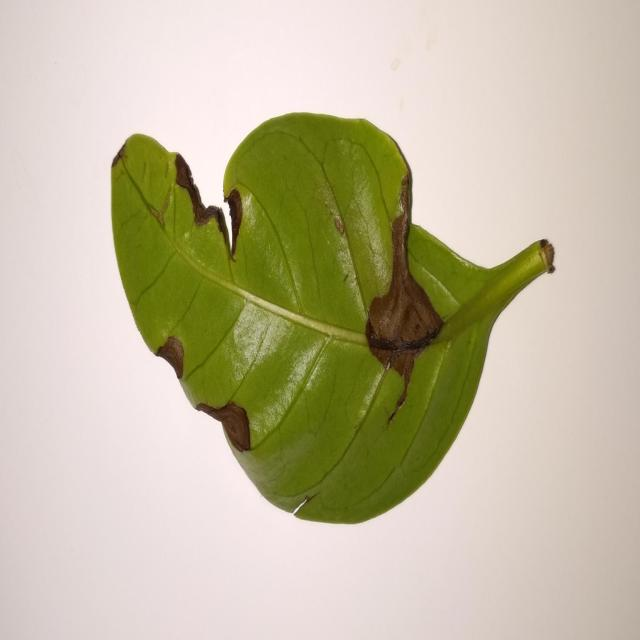Enfermedad-Antracnosis: (109, 112, 556, 528)
